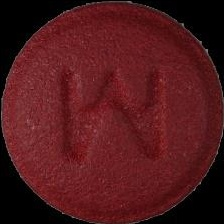43063-160: (0, 0, 224, 224)
